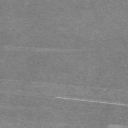finishing roll printing: (0, 78, 128, 94), (55, 96, 128, 107), (4, 46, 92, 52)
